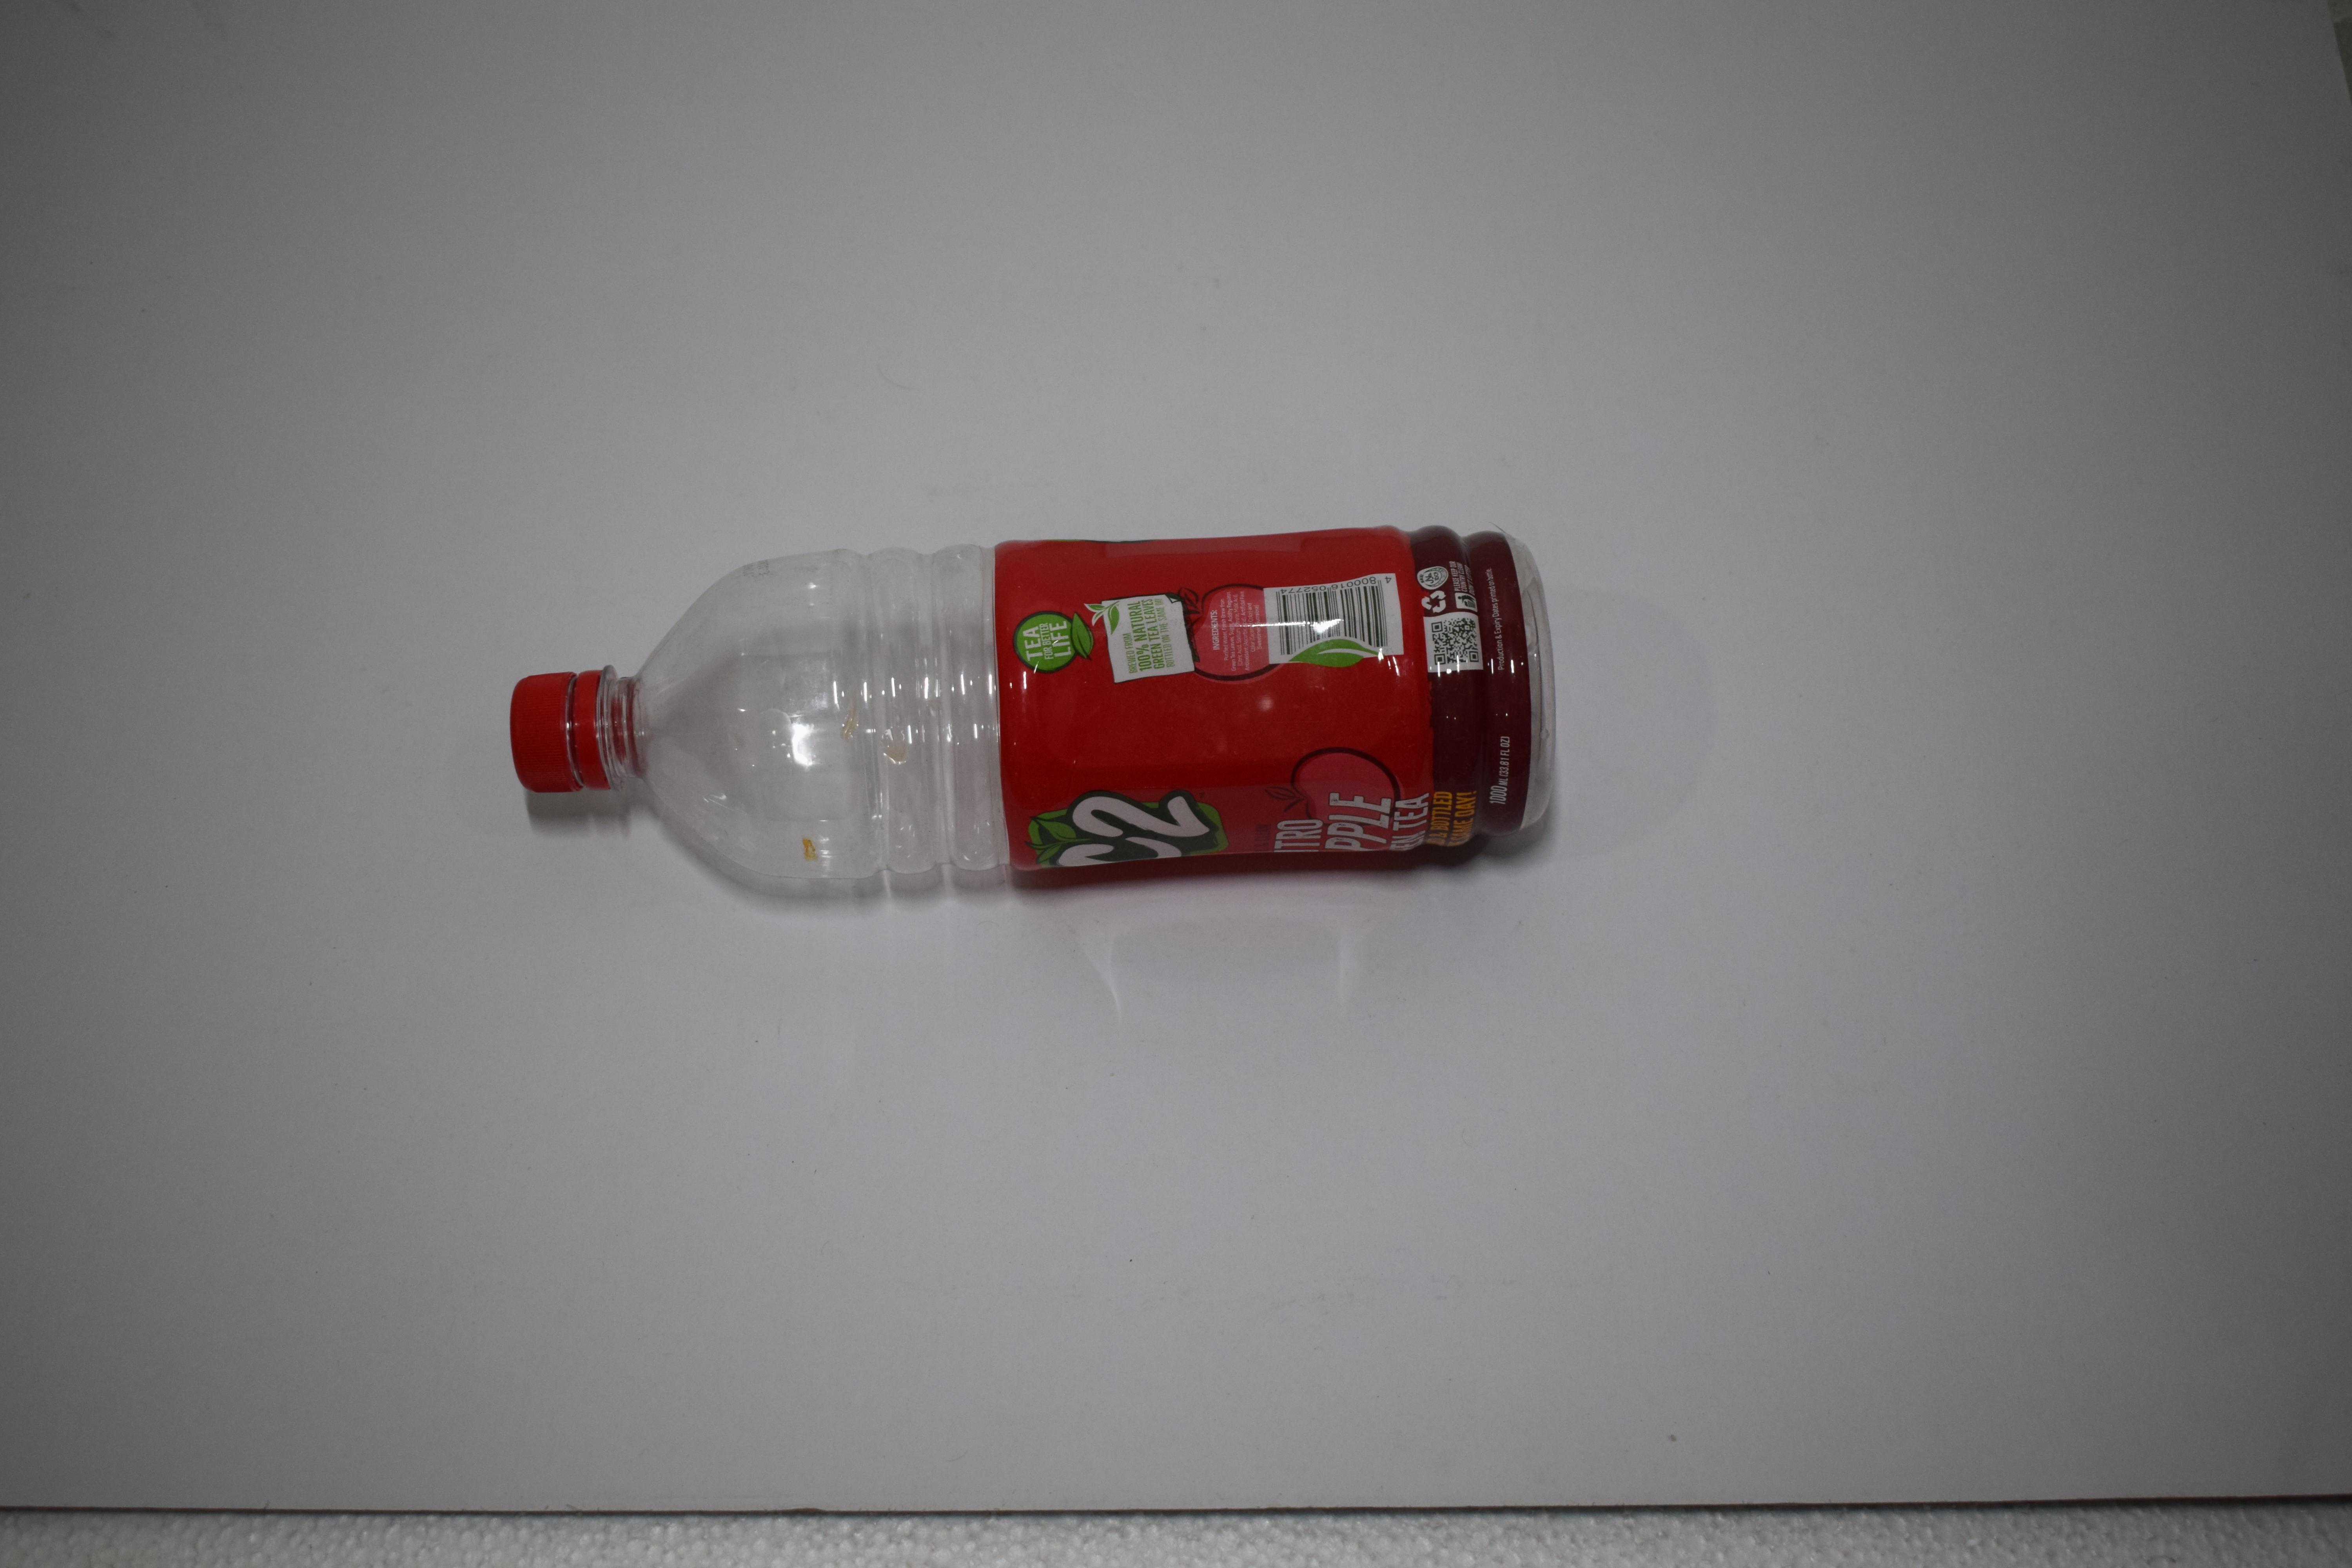bottle: (502, 471, 1552, 784)
